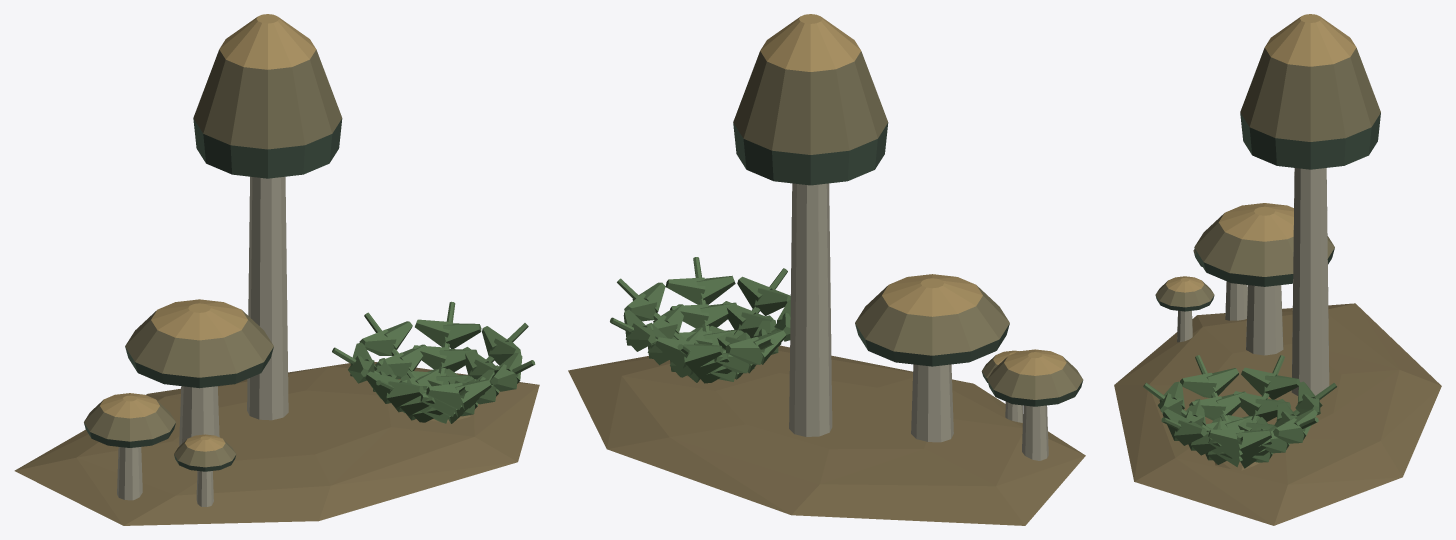
The model's file is mushroom-garden.glb.
3 renders of one model, left to right at view 1: azimuth 30°, elevation 25°; view 2: azimuth 150°, elevation 25°; view 3: azimuth 270°, elevation 25°, orthographic. The views are drawn at different scales.
Parts seen in each view (by area): view 1: mushroom-garden__body; view 2: mushroom-garden__body; view 3: mushroom-garden__body.
Boxes of the visible parts, left/top/right/bottom form: mushroom-garden__body: left=14, top=14, right=539, bottom=525; mushroom-garden__body: left=568, top=14, right=1085, bottom=525; mushroom-garden__body: left=1114, top=14, right=1441, bottom=525.
Size of the model in its own units: 1.72 by 1.44 by 1.07.
